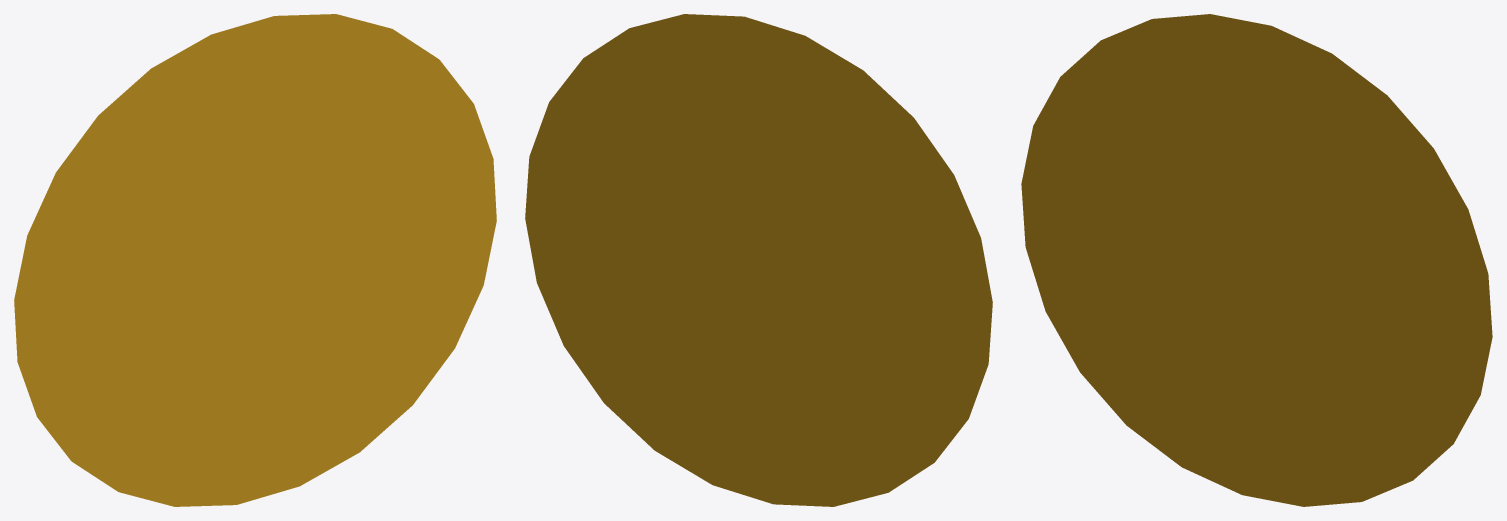
Rendered from original-22.obj.
The picture shows the model from 3 angles, left to right: view 1: azimuth 30°, elevation 25°; view 2: azimuth 150°, elevation 25°; view 3: azimuth 330°, elevation 25°; orthographic projection.
Parts seen in each view (by area): view 1: #ID151; view 2: #ID151; view 3: #ID151.
Boxes of the visible parts, bbox=[...] form: #ID151: bbox=[14, 14, 496, 506]; #ID151: bbox=[525, 14, 992, 506]; #ID151: bbox=[1021, 14, 1492, 506].
Size of the model in its own units: 0.4631 by 0.4473 by 0.00956.
